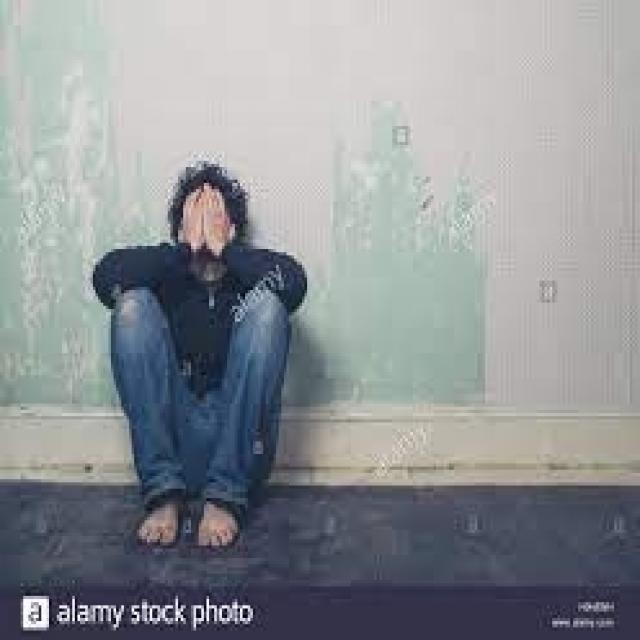sitting: (88, 155, 320, 552)
